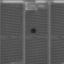dust: (30, 27, 37, 33)
